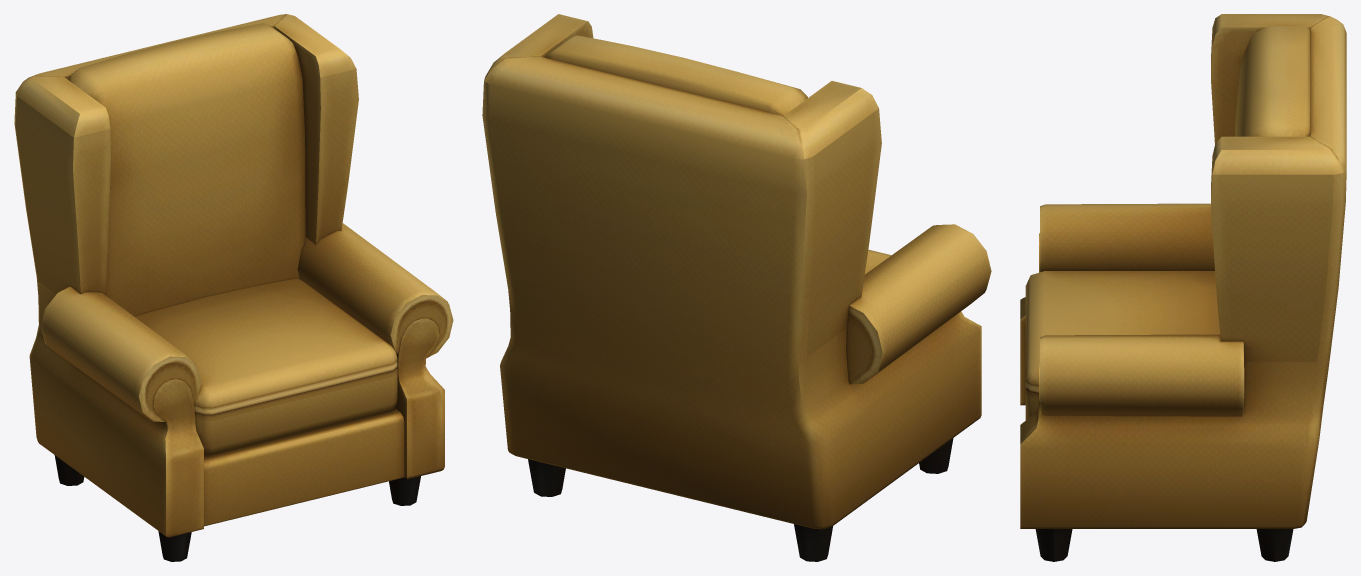
Rendered from sillon.fbx.
The picture shows the model from 3 angles, left to right: view 1: azimuth 30°, elevation 25°; view 2: azimuth 150°, elevation 25°; view 3: azimuth 270°, elevation 25°; orthographic projection. The views are drawn at different scales.
Visible parts, largest first — view 1: s4studio_mesh_1; view 2: s4studio_mesh_1; view 3: s4studio_mesh_1.
Boxes of the visible parts, x1,y1,x2,y2 form: s4studio_mesh_1: [14, 14, 453, 561]; s4studio_mesh_1: [482, 14, 991, 561]; s4studio_mesh_1: [1020, 14, 1346, 561].
Size of the model in its own units: 90.02 by 108 by 74.91.
Materials: 1 (1 with a texture image).
